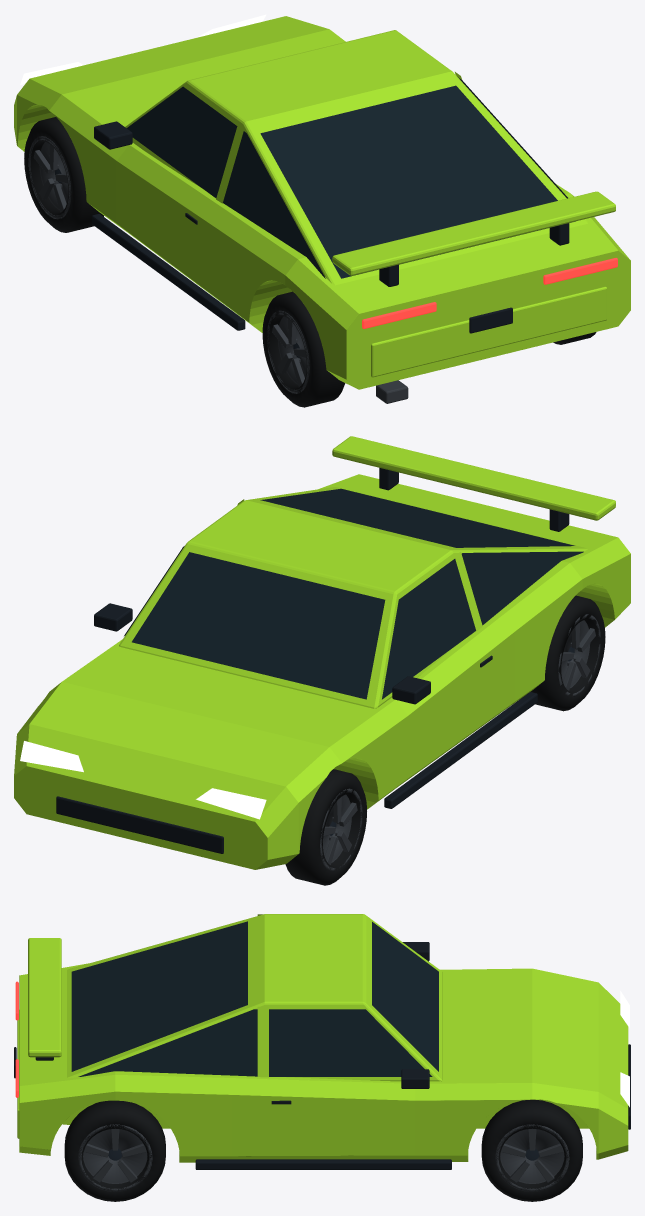
File: ns-latch-01.glb
The picture shows the model from 3 angles, top to bottom: view 1: azimuth 30°, elevation 25°; view 2: azimuth 150°, elevation 25°; view 3: azimuth 270°, elevation 25°; orthographic projection. The views are drawn at different scales.
Visible parts, largest first — view 1: coachwork, rear-glass, liftback-canopy, side-glass-left, liftback-rear-apron, visor-spoiler, tire-rear-left, tire-front-left, rocker-left, rim-front-left, rim-rear-left, mirror-left (+5 smaller); view 2: coachwork, windshield, liftback-canopy, side-glass-left, rear-glass, visor-spoiler, tire-front-left, tire-rear-left, nose-mouth, rocker-left, swept-headlight-left, swept-headlight-right (+5 smaller); view 3: coachwork, rear-glass, liftback-canopy, side-glass-right, windshield, tire-front-right, tire-rear-right, visor-spoiler, rocker-right, rim-front-right, rim-rear-right, b-pillar-right (+1 smaller).
Part boxes in pixels (x1,y1,x2,y2): coachwork: [14, 16, 630, 389]; rear-glass: [260, 85, 575, 278]; liftback-canopy: [125, 30, 587, 285]; side-glass-left: [126, 86, 325, 278]; liftback-rear-apron: [371, 286, 607, 377]; visor-spoiler: [332, 191, 615, 275]; tire-rear-left: [262, 291, 345, 407]; tire-front-left: [24, 117, 103, 232]; rocker-left: [92, 214, 245, 330]; rim-front-left: [28, 136, 71, 219]; rim-rear-left: [267, 310, 309, 393]; mirror-left: [94, 121, 132, 149]; coachwork: [14, 474, 630, 869]; windshield: [132, 552, 385, 699]; liftback-canopy: [119, 487, 587, 708]; side-glass-left: [382, 551, 583, 699]; rear-glass: [260, 488, 574, 547]; visor-spoiler: [332, 436, 615, 520]; tire-front-left: [285, 769, 366, 885]; tire-rear-left: [530, 595, 605, 711]; nose-mouth: [56, 796, 223, 853]; rocker-left: [384, 692, 537, 808]; swept-headlight-left: [196, 788, 266, 819]; swept-headlight-right: [20, 741, 83, 772]; coachwork: [19, 963, 628, 1162]; rear-glass: [71, 921, 247, 1071]; liftback-canopy: [67, 914, 442, 1081]; side-glass-right: [78, 1009, 432, 1076]; windshield: [372, 922, 438, 1071]; tire-front-right: [481, 1099, 582, 1201]; tire-rear-right: [64, 1100, 165, 1201]; visor-spoiler: [28, 938, 61, 1057]; rocker-right: [195, 1159, 451, 1169]; rim-front-right: [495, 1124, 569, 1191]; rim-rear-right: [78, 1124, 152, 1191]; b-pillar-right: [257, 1006, 268, 1077].
Size of the model in its own units: 2.31 by 1.44 by 4.38.
